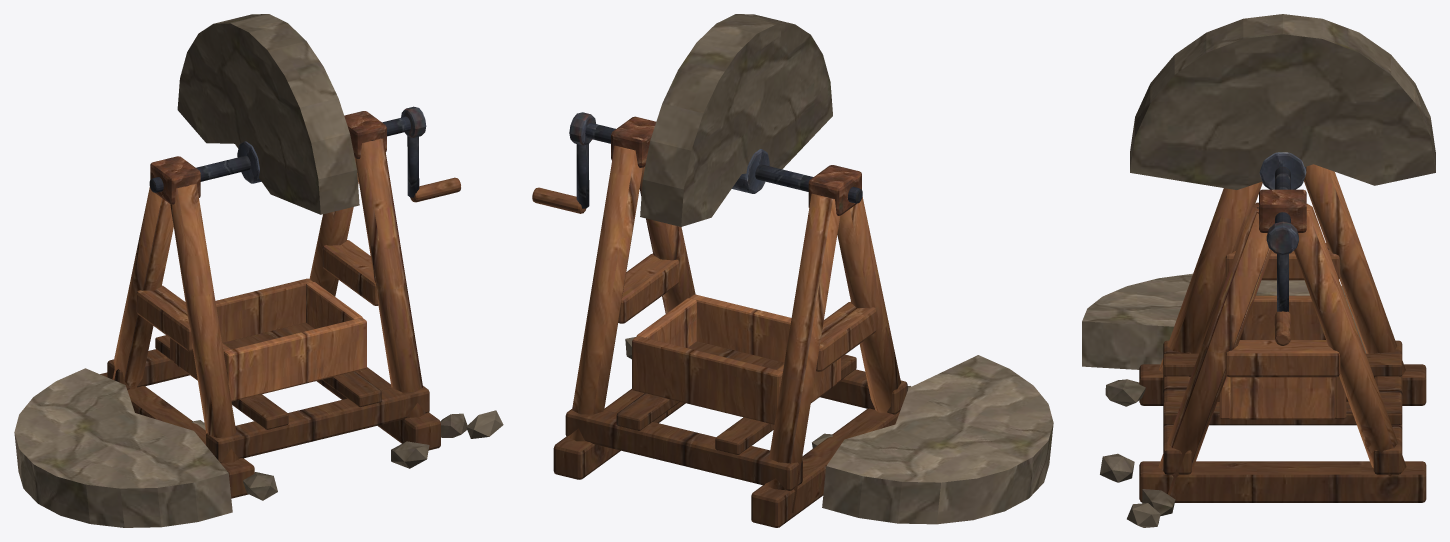
Rendered from ef_broken_grindstone.glb.
3 renders of one model, left to right at view 1: azimuth 30°, elevation 25°; view 2: azimuth 150°, elevation 25°; view 3: azimuth 270°, elevation 25°, orthographic. The views are drawn at different scales.
Visible parts, largest first — view 1: model; view 2: model; view 3: model.
Boxes of the visible parts, left/top/right/bottom form: model: left=14, top=14, right=503, bottom=527; model: left=532, top=14, right=1053, bottom=527; model: left=1082, top=14, right=1435, bottom=527.
Size of the model in its own units: 1.15 by 0.98 by 0.74.
Materials: 10 (10 with a texture image).
